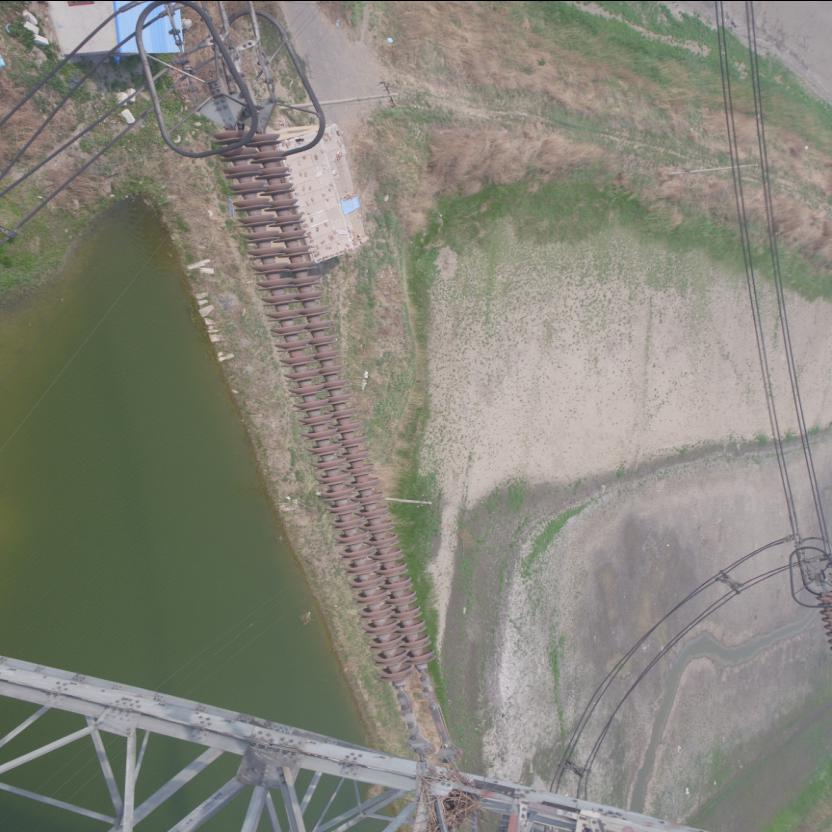insulator: (209, 116, 445, 717)
